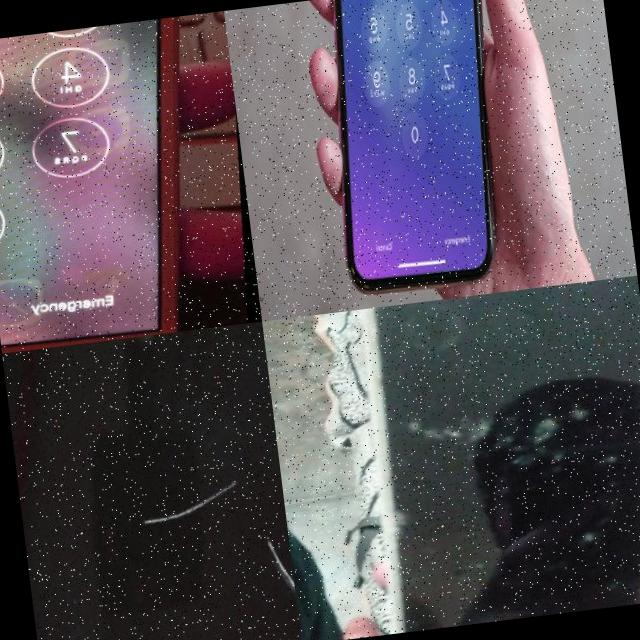scratch: (133, 456, 253, 536), (262, 518, 300, 638)
screen crack: (330, 348, 640, 526), (595, 550, 640, 608)
